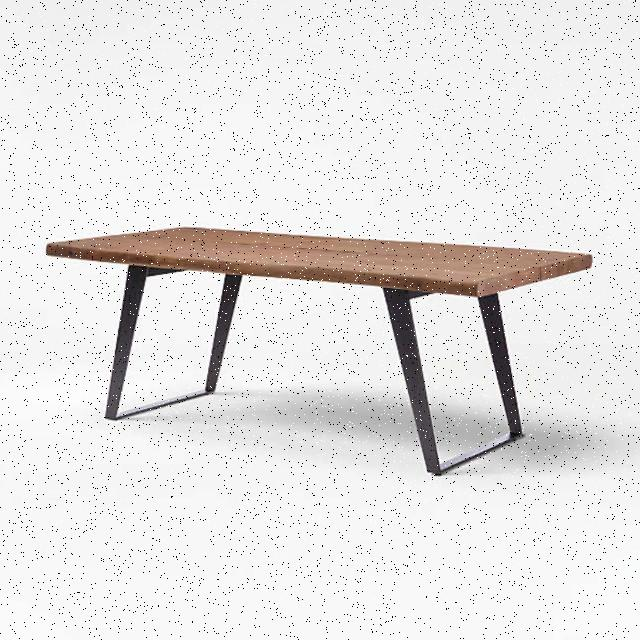mobile-phone: (42, 222, 592, 478)
